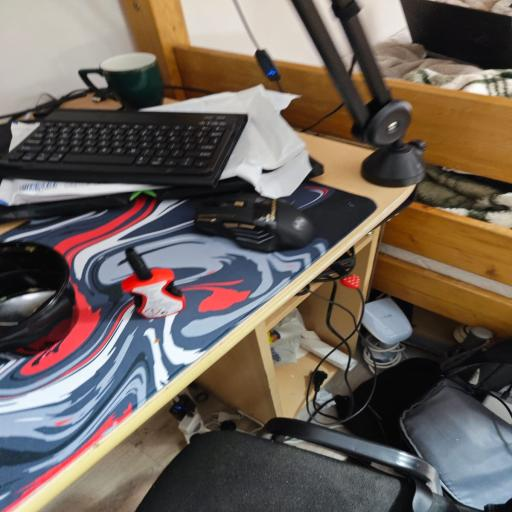Super Glue: (119, 244, 186, 317)
